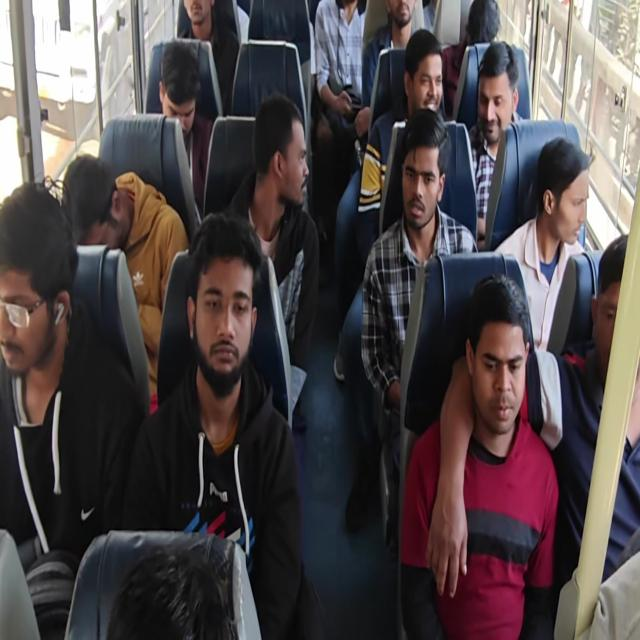person: (0, 180, 81, 390), (461, 294, 529, 438), (58, 152, 143, 262), (192, 235, 248, 392), (588, 249, 640, 412), (258, 107, 315, 224), (528, 134, 588, 243), (392, 126, 440, 234), (471, 44, 515, 142), (402, 38, 447, 112), (161, 52, 197, 142), (461, 0, 500, 61), (172, 0, 226, 38), (373, 0, 419, 37)
